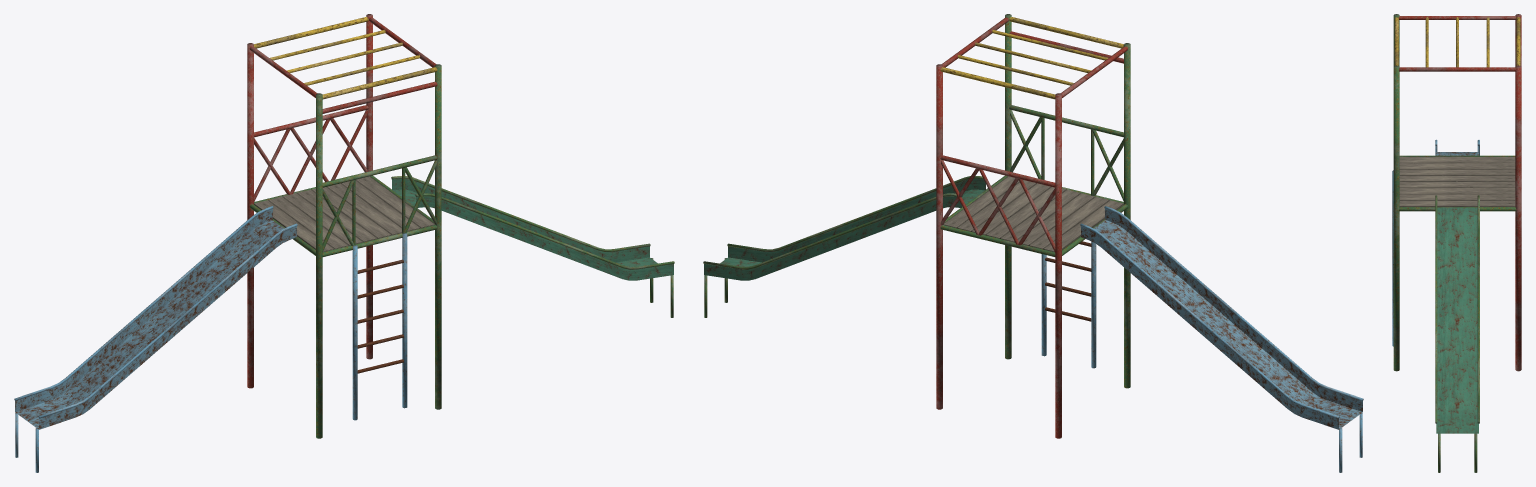
The model's file is playground_slide_tower_lod1_web.glb.
3 renders of one model, left to right at view 1: azimuth 30°, elevation 25°; view 2: azimuth 150°, elevation 25°; view 3: azimuth 270°, elevation 25°, orthographic. The views are drawn at different scales.
Parts seen in each view (by area): view 1: SlideTower_Mesh; view 2: SlideTower_Mesh; view 3: SlideTower_Mesh.
Boxes of the visible parts, x1=… form: SlideTower_Mesh: x1=14, y1=14, x2=674, y2=472; SlideTower_Mesh: x1=703, y1=14, x2=1363, y2=472; SlideTower_Mesh: x1=1392, y1=14, x2=1521, y2=472.
Size of the model in its own units: 6.43 by 3.3 by 1.27.
Materials: 8 (8 with a texture image).
